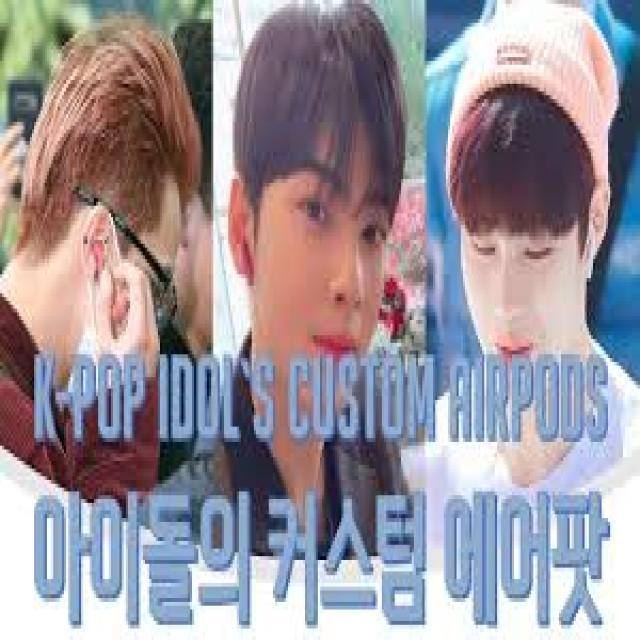earphone: (233, 230, 272, 300), (78, 228, 117, 285), (583, 215, 610, 293)
